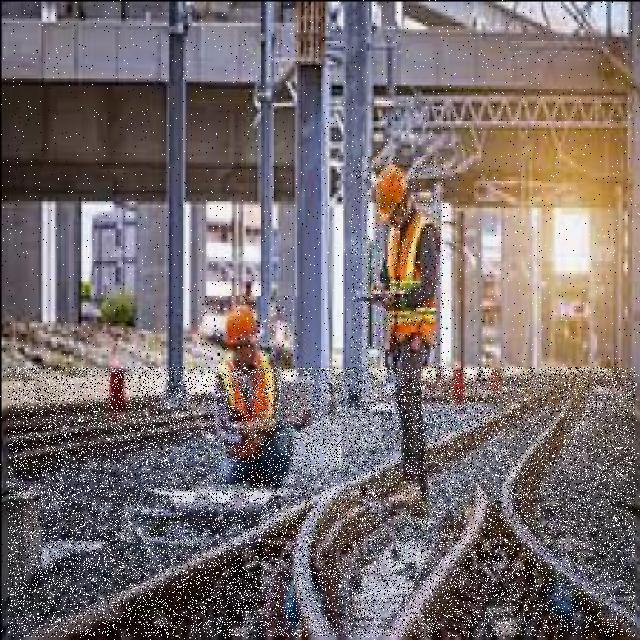danger: (351, 157, 445, 517), (199, 296, 296, 476)
rail: (9, 368, 635, 637)
